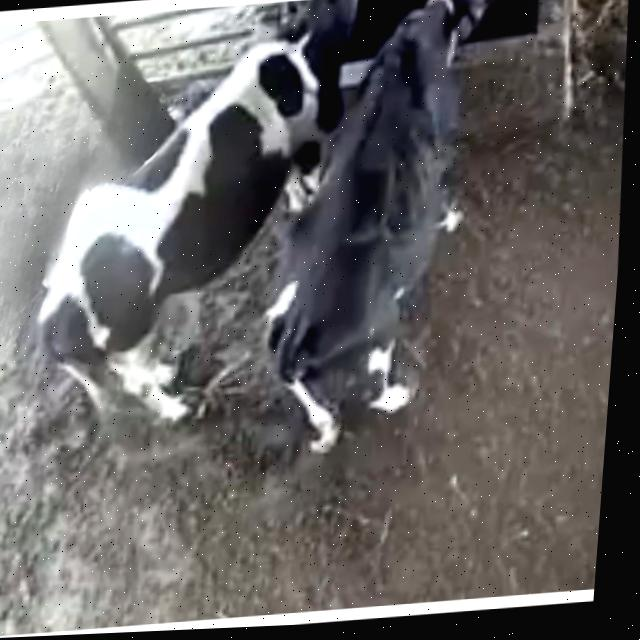drink: (236, 0, 371, 92), (374, 0, 508, 66)
